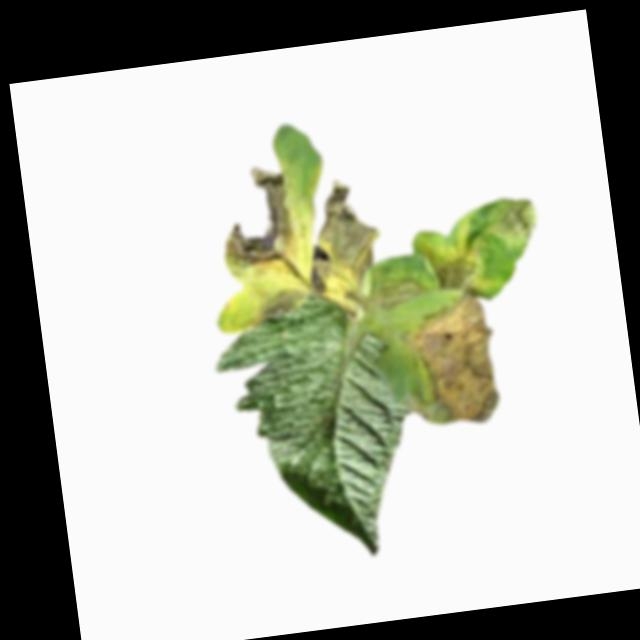Late_blight: (390, 293, 508, 432), (302, 175, 390, 315), (212, 160, 299, 275), (420, 220, 492, 303), (483, 193, 543, 251), (245, 286, 314, 331), (368, 273, 430, 319)
healthy: (208, 289, 428, 574)
